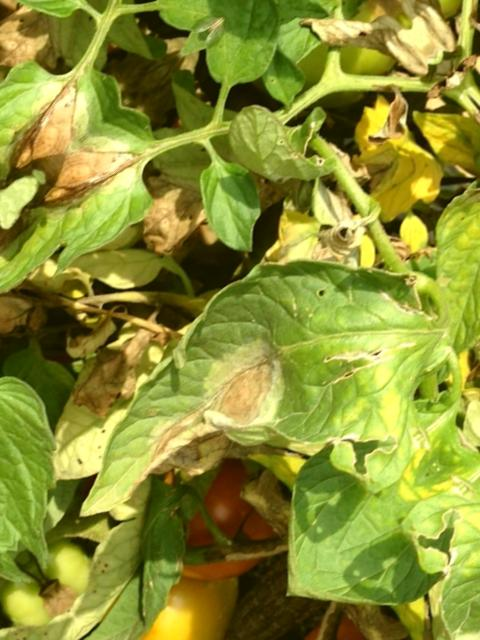Tomato leaf late blight: (34, 180, 480, 616), (0, 90, 200, 323), (0, 329, 138, 587), (355, 135, 480, 369)
